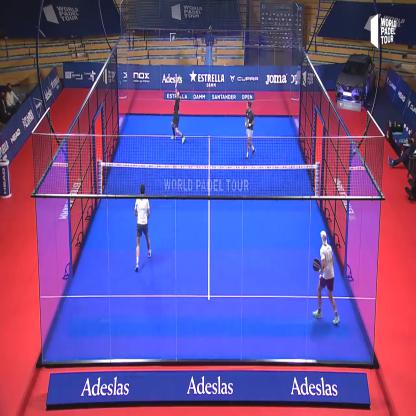ball: (170, 33, 177, 42)
